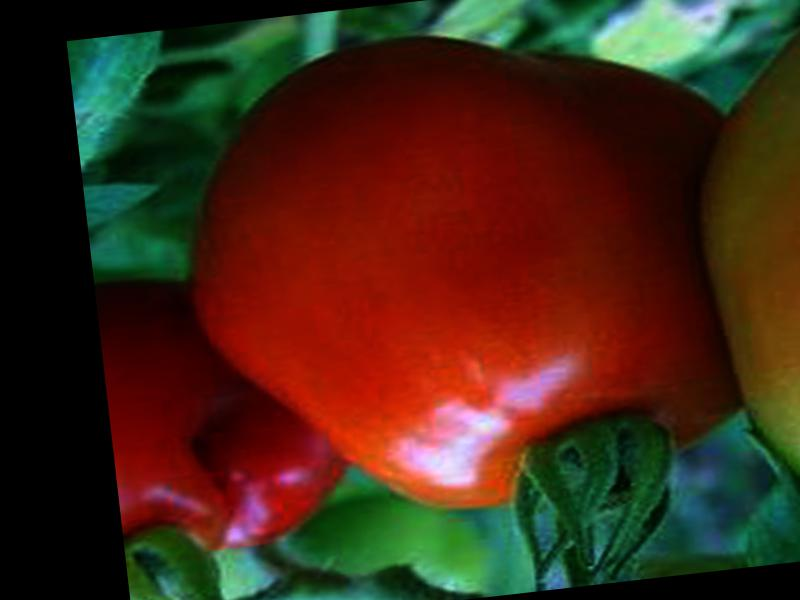Tomato: (165, 6, 738, 537)
